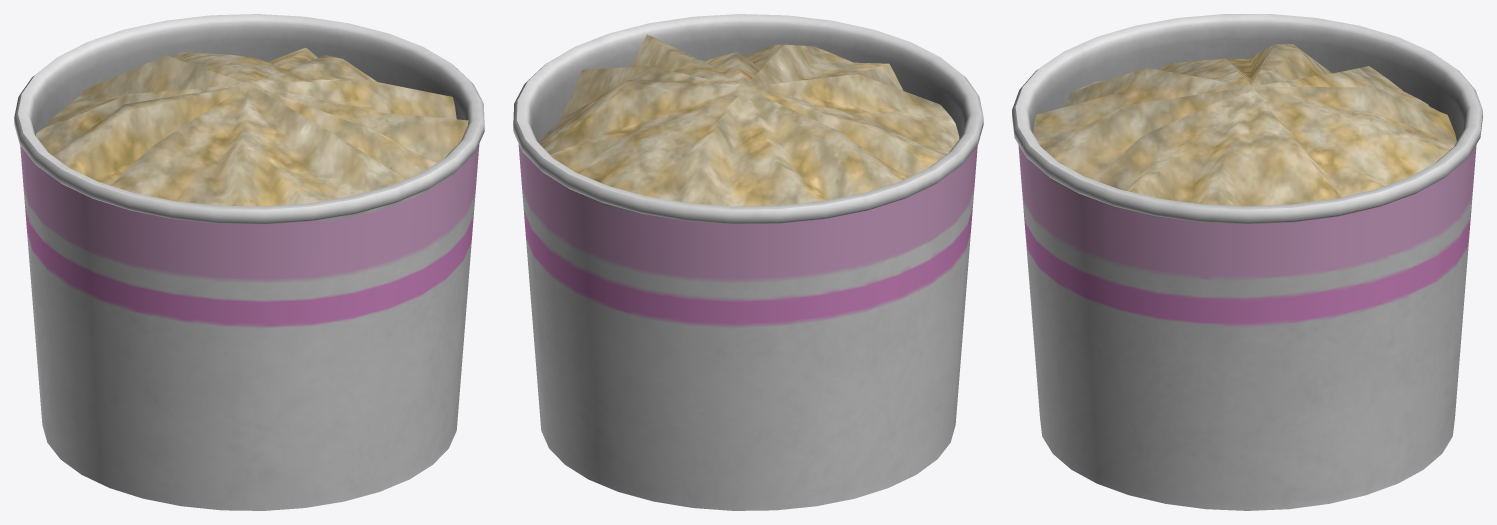
The model's file is popcorn1.fbx.
3 views of the same model, side by side, from view 1: azimuth 30°, elevation 25°; view 2: azimuth 150°, elevation 25°; view 3: azimuth 270°, elevation 25° (orthographic).
Parts seen in each view (by area): view 1: SM_bucket_redwhite_popcorn__2_; view 2: SM_bucket_redwhite_popcorn__2_; view 3: SM_bucket_redwhite_popcorn__2_.
Part boxes in pixels (<box>): SM_bucket_redwhite_popcorn__2_: <box>14,14,484,510</box>; SM_bucket_redwhite_popcorn__2_: <box>513,14,983,510</box>; SM_bucket_redwhite_popcorn__2_: <box>1012,14,1482,510</box>.
Bounding box in the file's own units: 23.01 × 18.21 × 23.04.
